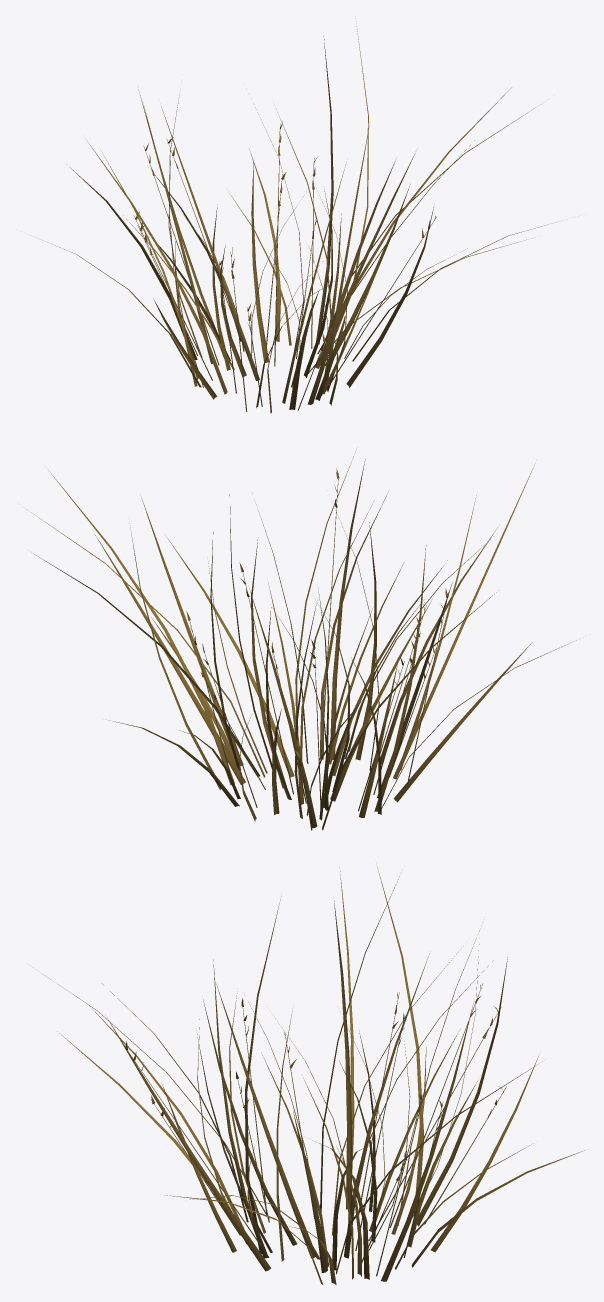
Rendered from grass_dry_lod1.gltf.
The picture shows the model from 3 angles, top to bottom: view 1: azimuth 30°, elevation 25°; view 2: azimuth 150°, elevation 25°; view 3: azimuth 270°, elevation 25°; orthographic projection. The views are drawn at different scales.
Visible parts, largest first — view 1: grass_dry_lod1; view 2: grass_dry_lod1; view 3: grass_dry_lod1.
Boxes of the visible parts, x1,y1,x2,y2 form: grass_dry_lod1: (43, 21, 555, 413); grass_dry_lod1: (26, 452, 576, 830); grass_dry_lod1: (43, 867, 584, 1284).
Bounding box in the file's own units: 1.89 × 1.03 × 1.58.
1 material, 1 textured.
